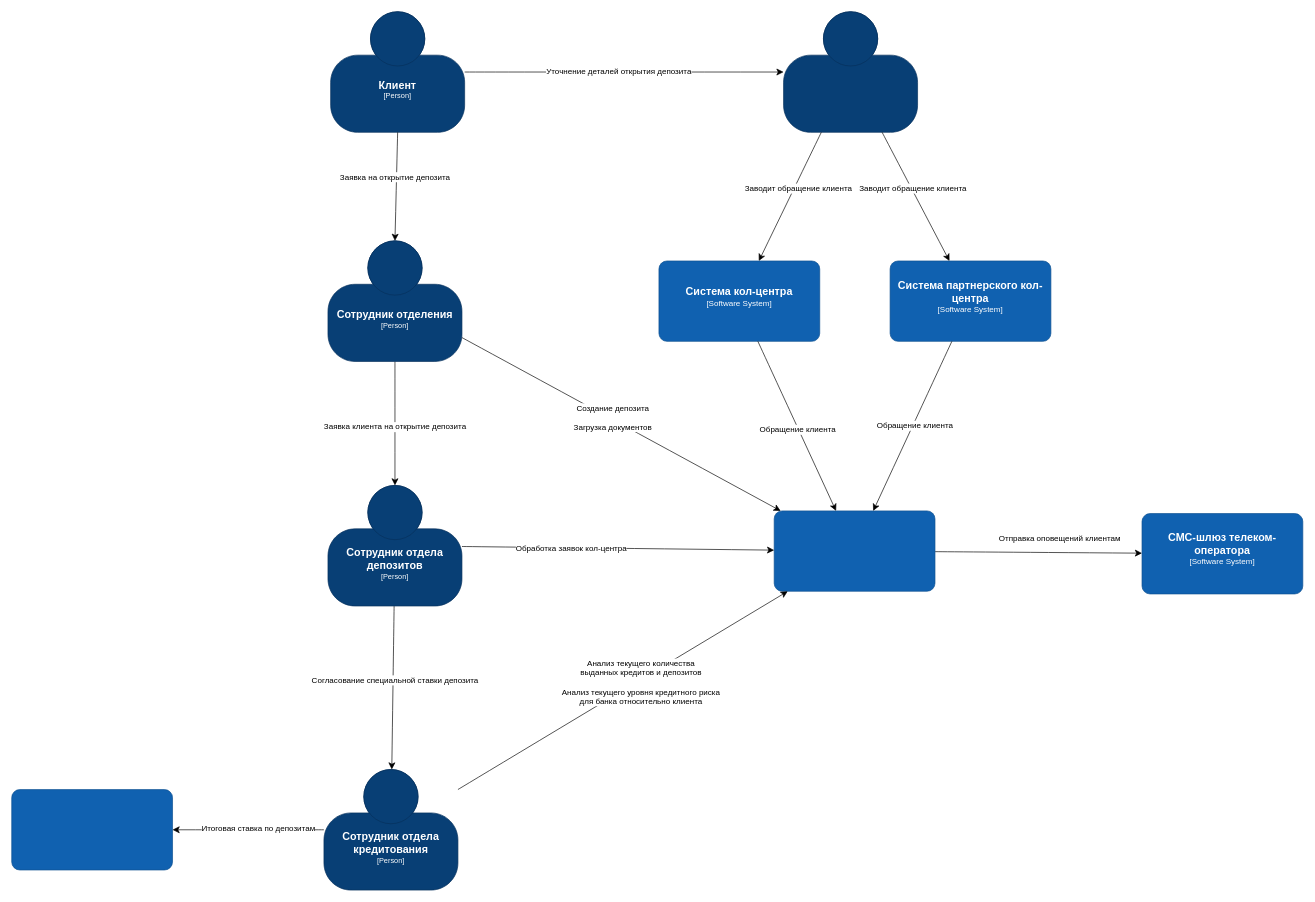
The diagram is 1315 pixels wide and 902 high, and some of its shapes have lost their labels. The centre of each missing label's shape, as x and y in pixels:
Excel [Software System]: the point at 92,829
АБС [Software System]: the point at 854,550
Сотрудник кол-центра [Person]: the point at 850,71
